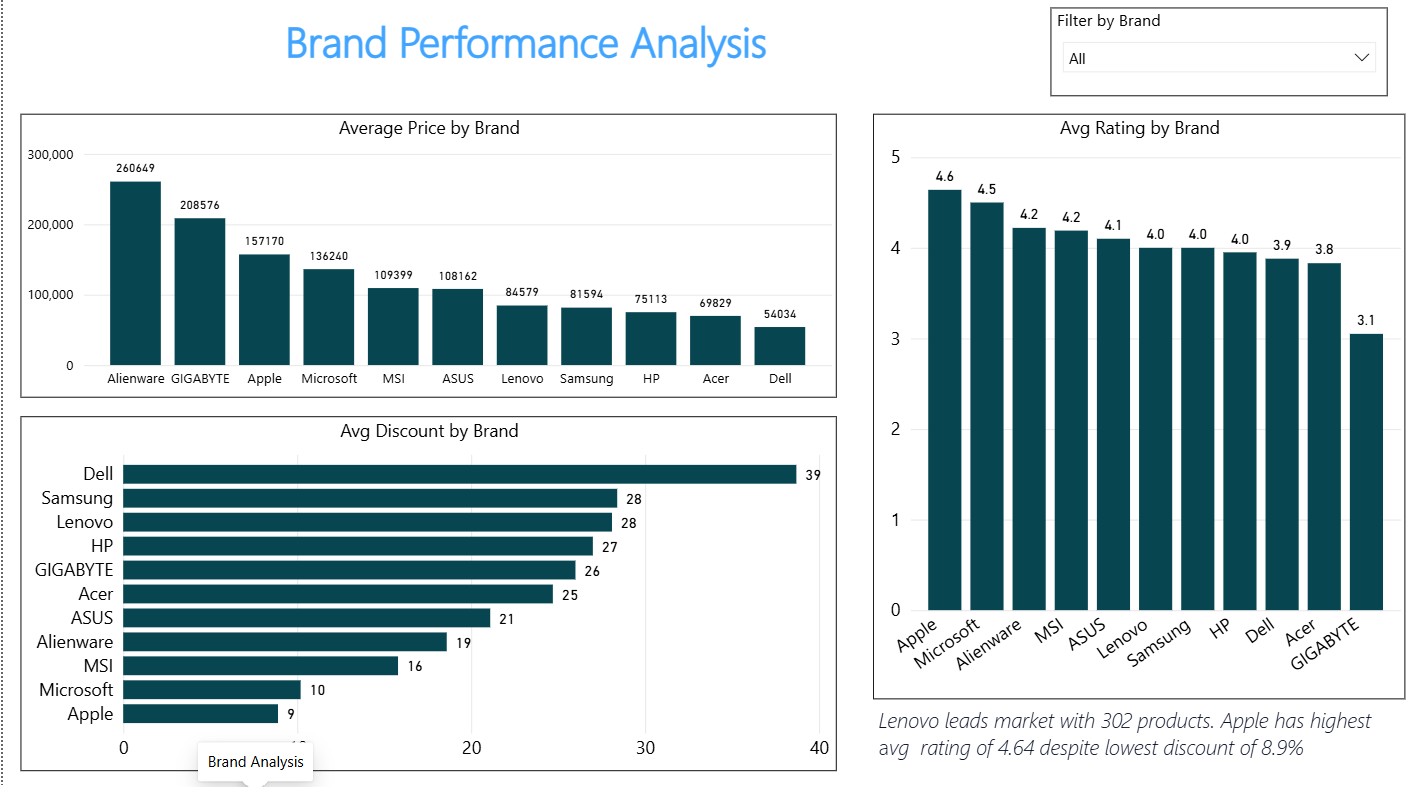

The dashboard page shown, as its layout file describes it:
{"tool":"powerbi","page":{"name":"Brand Analysis","canvas":[1280,720],"ordinal":1},"visuals":[{"type":"textbox","box":[16,16,912,80],"z":0},{"type":"clusteredColumnChart","title":"Average Price by Brand","fields":{"Category":["ecommerce_analytics vw_brand_performance.brand"],"Y":["Sum(ecommerce_analytics vw_brand_performance.avg_price)"]},"box":[16,112,736,256],"z":1000},{"type":"clusteredColumnChart","title":"Avg Rating by Brand","fields":{"Category":["ecommerce_analytics vw_brand_performance.brand"],"Y":["Sum(ecommerce_analytics vw_brand_performance.avg_rating)"]},"box":[784,112,480,528],"z":2000},{"type":"clusteredBarChart","title":"Avg Discount by Brand","fields":{"Category":["ecommerce_analytics vw_brand_performance.brand"],"Y":["Sum(ecommerce_analytics vw_brand_performance.avg_discount)"]},"box":[16,384,736,320],"z":3000},{"type":"slicer","title":"Filter by Brand","fields":{"Values":["ecommerce_analytics vw_brand_performance.brand"]},"box":[944,16,304,80],"z":4000},{"type":"textbox","box":[784,640,480,64],"z":5000}]}

Visuals, with their boxes in screenshot pixels (x1, y1, x2, y2), scaled from the page's 1280x720 canvas onto the 1422x787 screenshot:
textbox: left=18, top=17, right=1031, bottom=105
"Average Price by Brand" clusteredColumnChart: left=18, top=122, right=835, bottom=402
"Avg Rating by Brand" clusteredColumnChart: left=871, top=122, right=1404, bottom=700
"Avg Discount by Brand" clusteredBarChart: left=18, top=420, right=835, bottom=770
"Filter by Brand" slicer: left=1049, top=17, right=1386, bottom=105
textbox: left=871, top=700, right=1404, bottom=770
